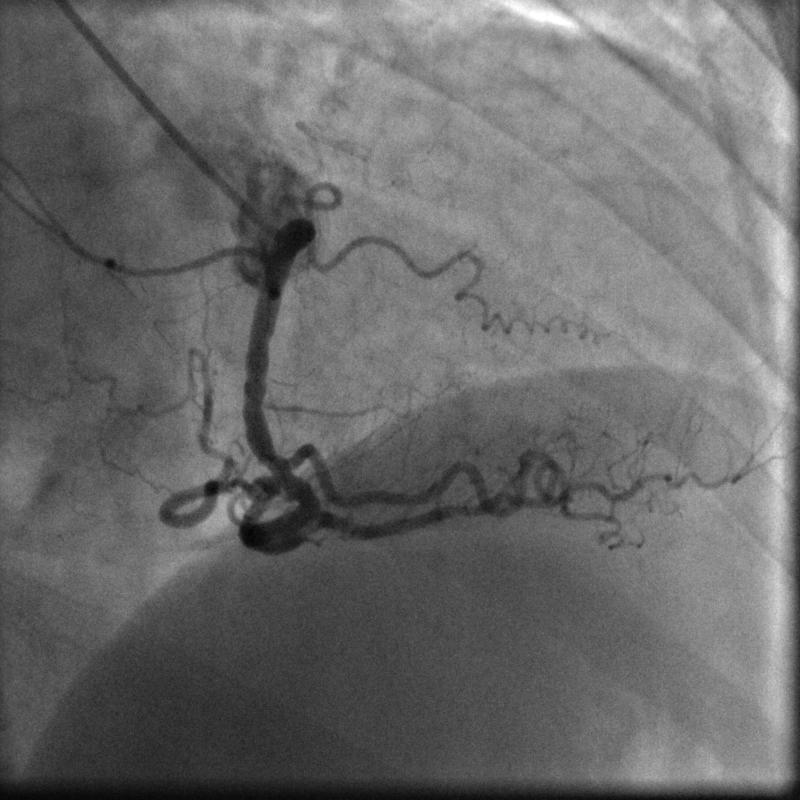Stenosis: (251, 449, 304, 483)
